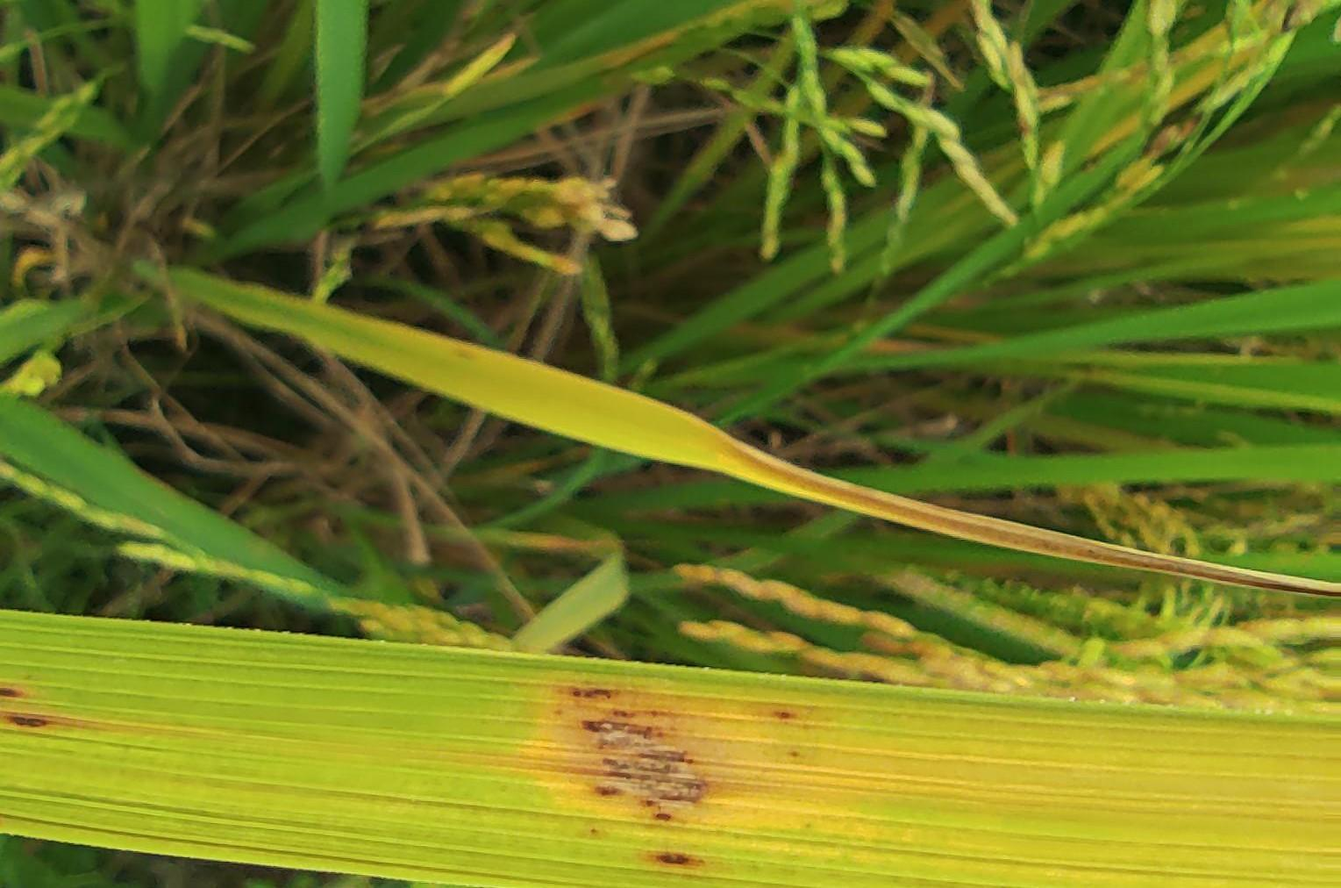LEAF: (0, 611, 1340, 887)
NBS: (646, 852, 707, 862), (0, 715, 46, 727), (0, 686, 24, 697)
